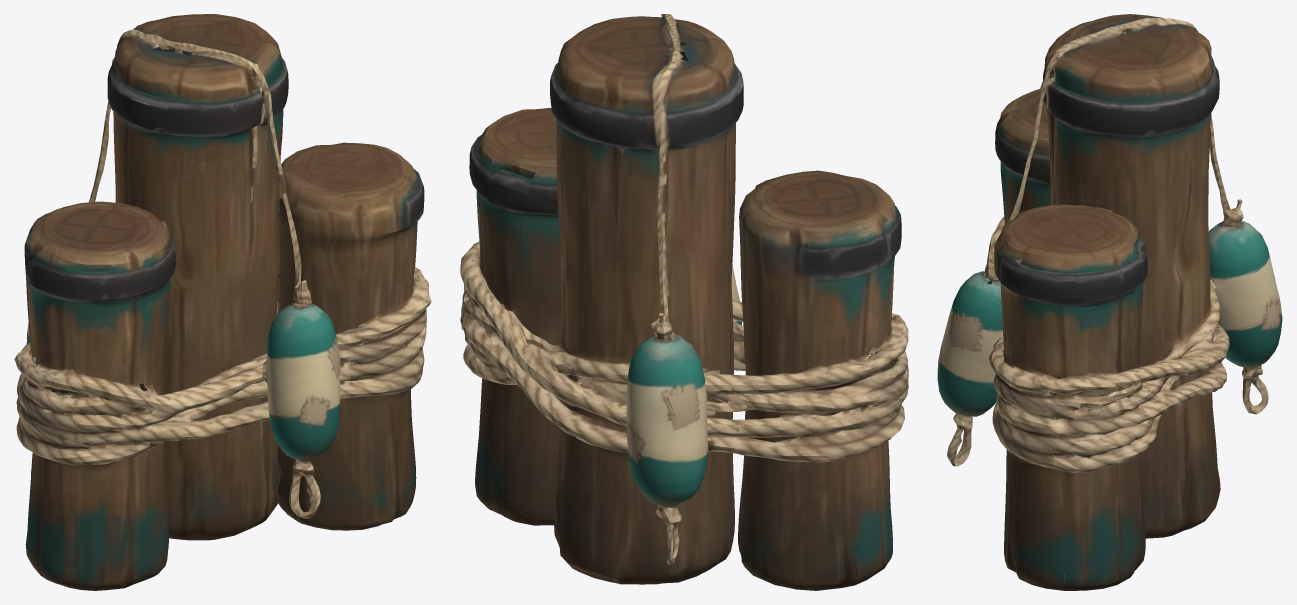
Rendered from tidewake_mooring_bollard_set.glb.
3 renders of one model, left to right at view 1: azimuth 30°, elevation 25°; view 2: azimuth 150°, elevation 25°; view 3: azimuth 270°, elevation 25°, orthographic. The views are drawn at different scales.
Visible parts, largest first — view 1: Mesh_0; view 2: Mesh_0; view 3: Mesh_0.
Part boxes in pixels (x1=…): Mesh_0: x1=14, y1=14, x2=431, y2=590; Mesh_0: x1=460, y1=14, x2=908, y2=590; Mesh_0: x1=937, y1=14, x2=1282, y2=590.
Size of the model in its own units: 1.63 by 1.89 by 1.24.
1 material, 1 textured.
